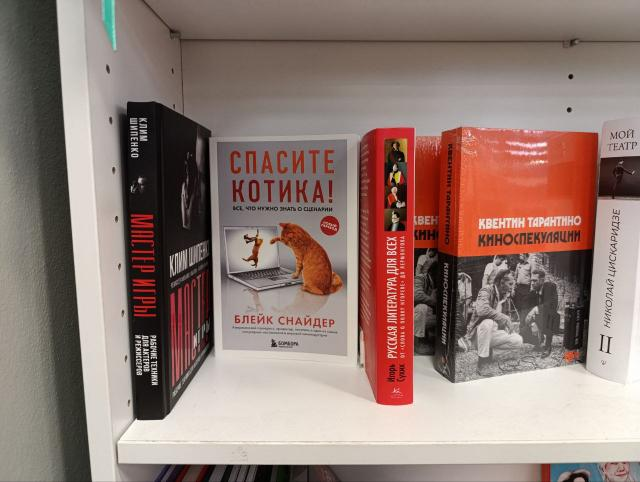book-s-spine: (585, 114, 640, 386), (126, 101, 164, 421), (375, 126, 417, 406), (433, 126, 463, 385)
